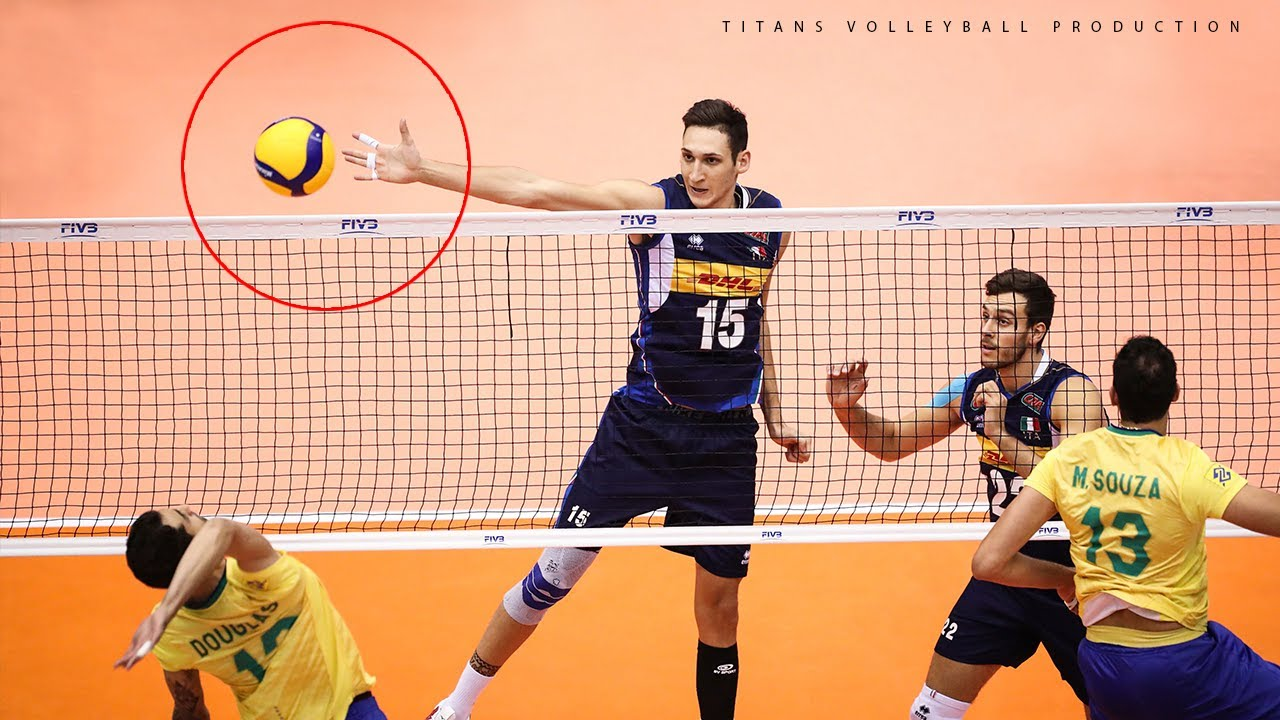ball: (253, 116, 337, 197)
